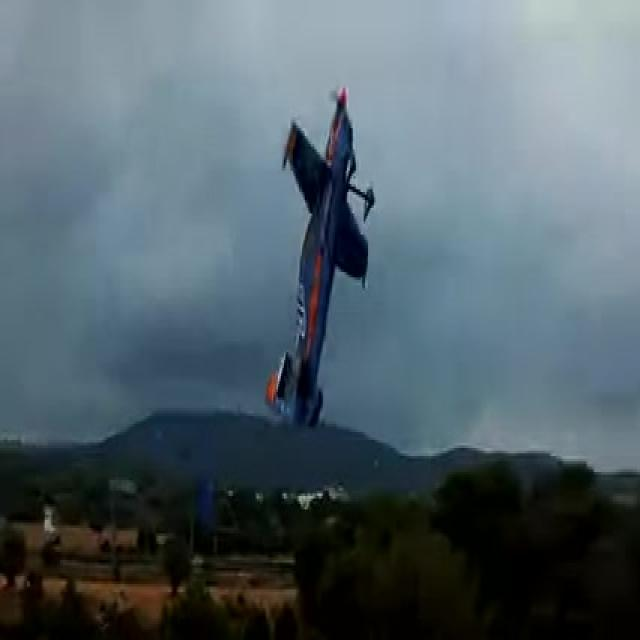iha: (295, 84, 346, 434)
